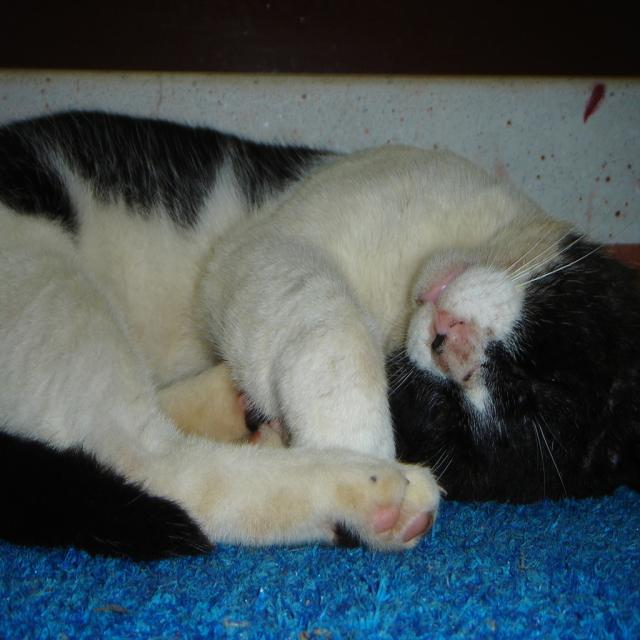Cat: (0, 100, 639, 559)
